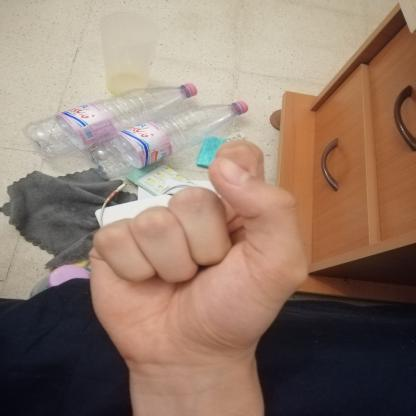FAA: (63, 127, 332, 385)
